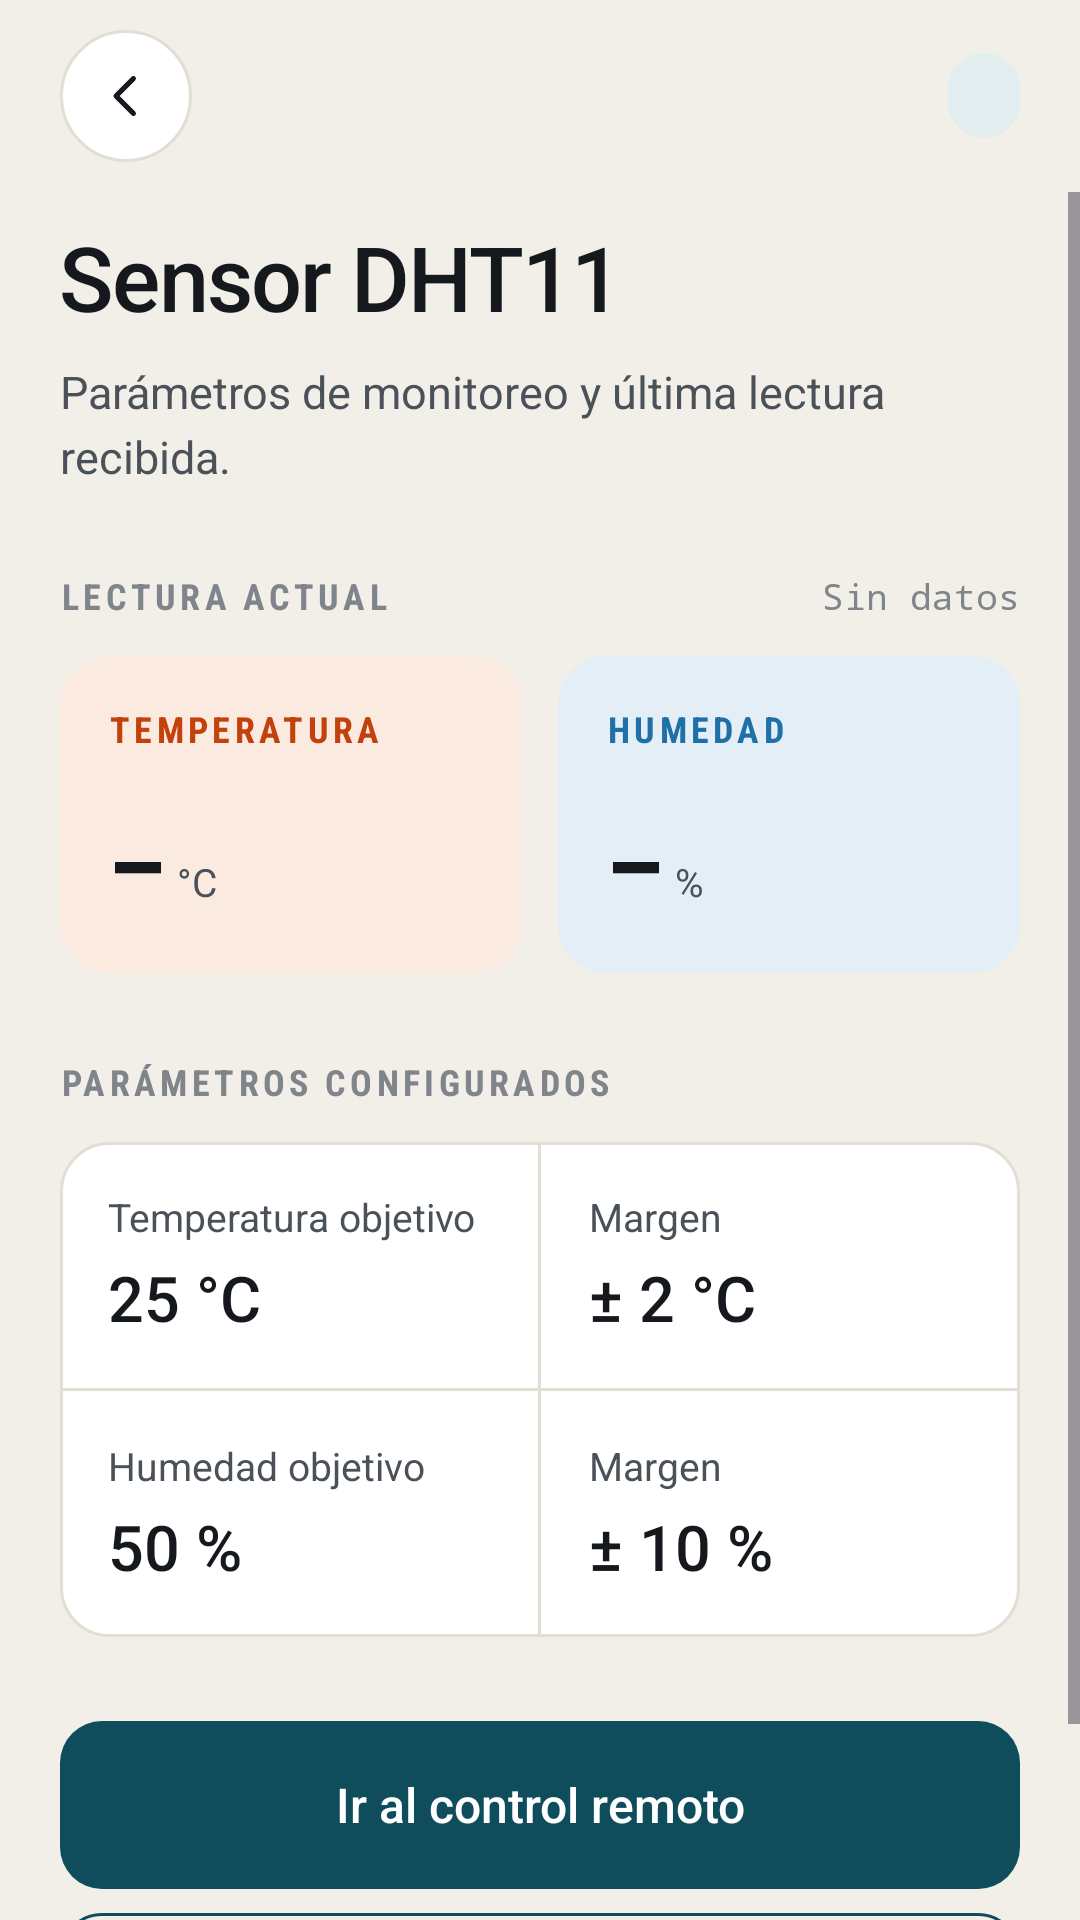

Named icons in this screenshot (1080 × 1920) and their centers, point (x, y):
Volver: point (126, 96)
